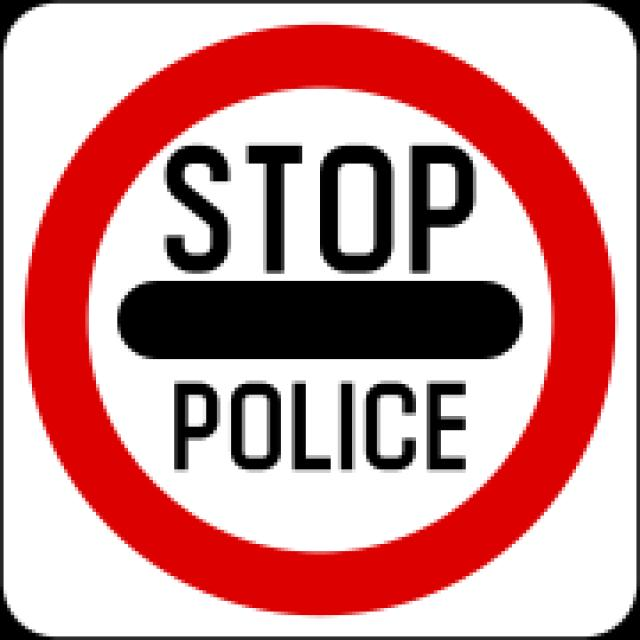Traffic sign: (36, 59, 595, 605)
